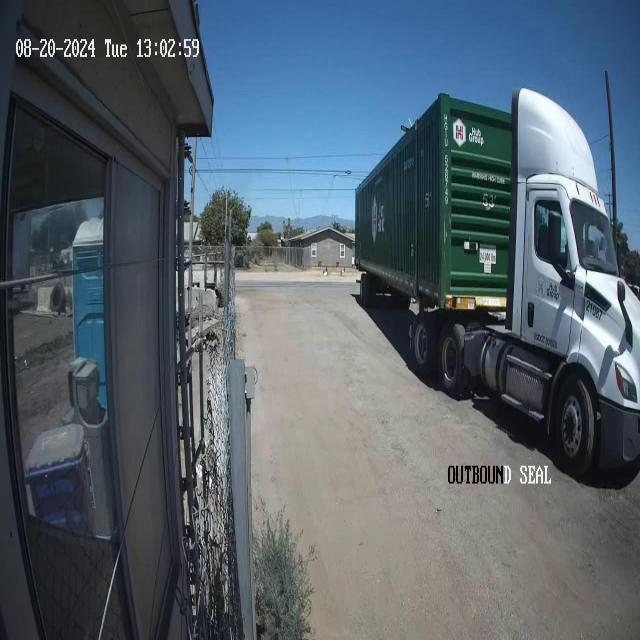TRUCK_IN: (353, 85, 639, 480)
